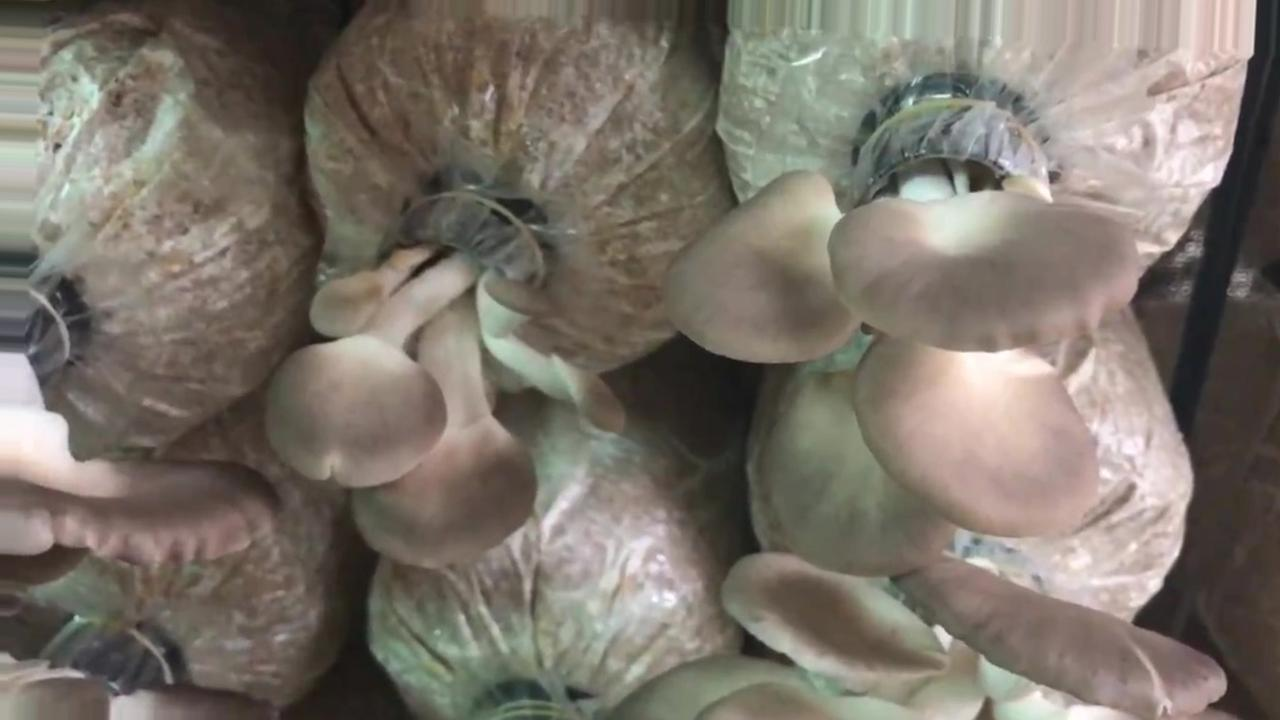nam: (664, 91, 1134, 573), (271, 179, 620, 563), (621, 555, 1223, 720), (1, 264, 274, 545)
